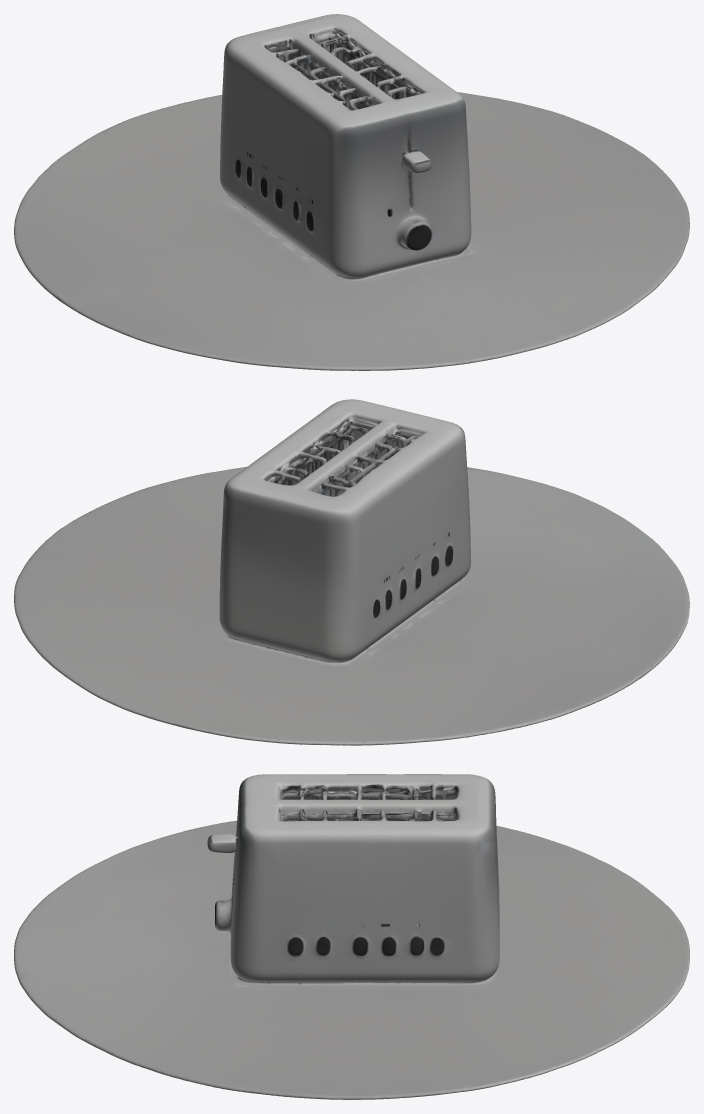
The model's file is toaster.glb.
3 views of the same model, one above another, from view 1: azimuth 30°, elevation 25°; view 2: azimuth 150°, elevation 25°; view 3: azimuth 270°, elevation 25° (orthographic).
Parts seen in each view (by area): view 1: textured_mesh_691bb968d5fc4f8757ce4907; view 2: textured_mesh_691bb968d5fc4f8757ce4907; view 3: textured_mesh_691bb968d5fc4f8757ce4907.
Boxes of the visible parts, x1,y1,x2,y2 form: textured_mesh_691bb968d5fc4f8757ce4907: [14, 14, 689, 370]; textured_mesh_691bb968d5fc4f8757ce4907: [14, 399, 689, 745]; textured_mesh_691bb968d5fc4f8757ce4907: [14, 774, 689, 1099].
Bounding box in the file's own units: 0.2145 × 0.0571 × 0.2144.
1 material, 1 textured.
